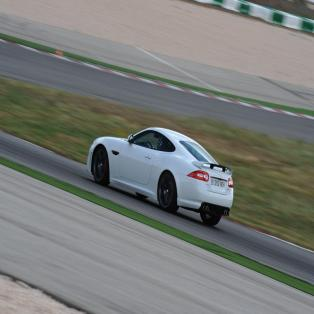Auto: (86, 126, 234, 228)
